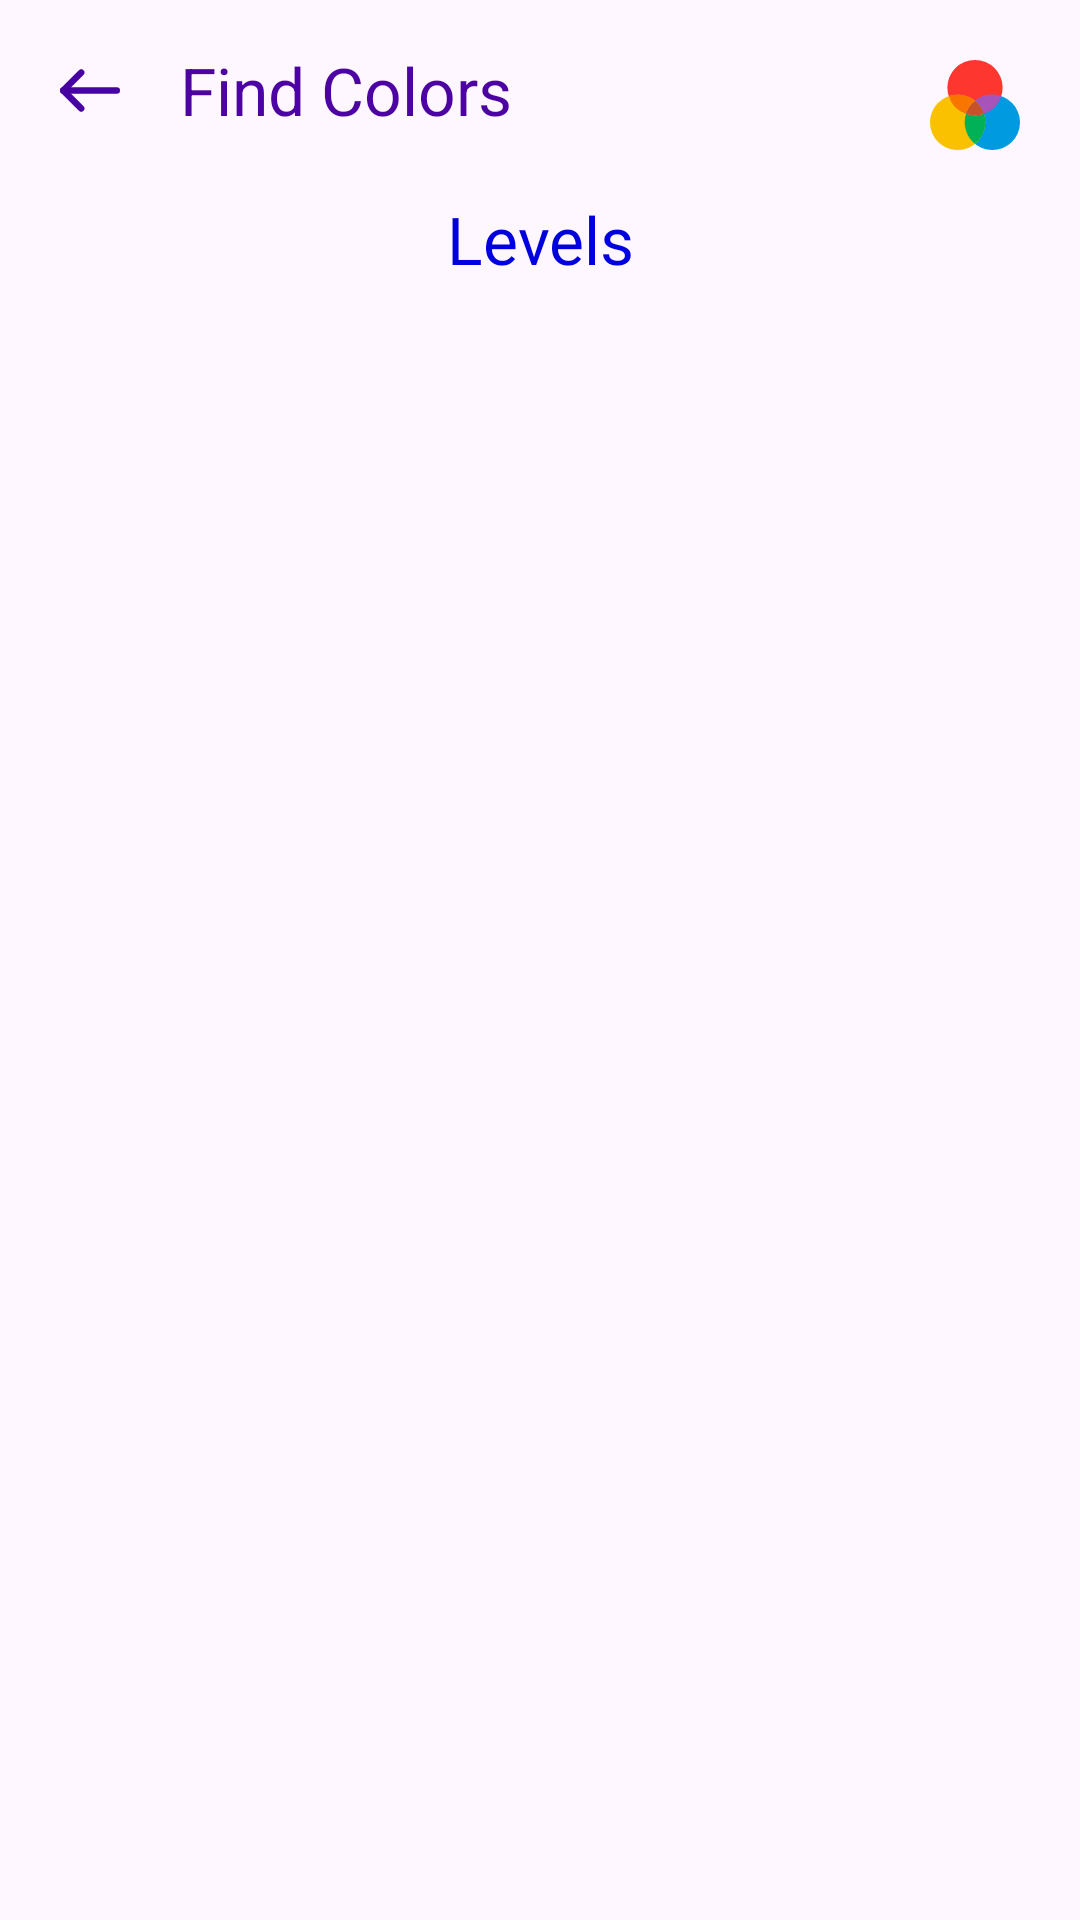

Point at icon controls on the screen. Image size 1080px×1920px, points as (x=x, y=y).
back arrow: (x=90, y=90)
colors: (x=975, y=105)
